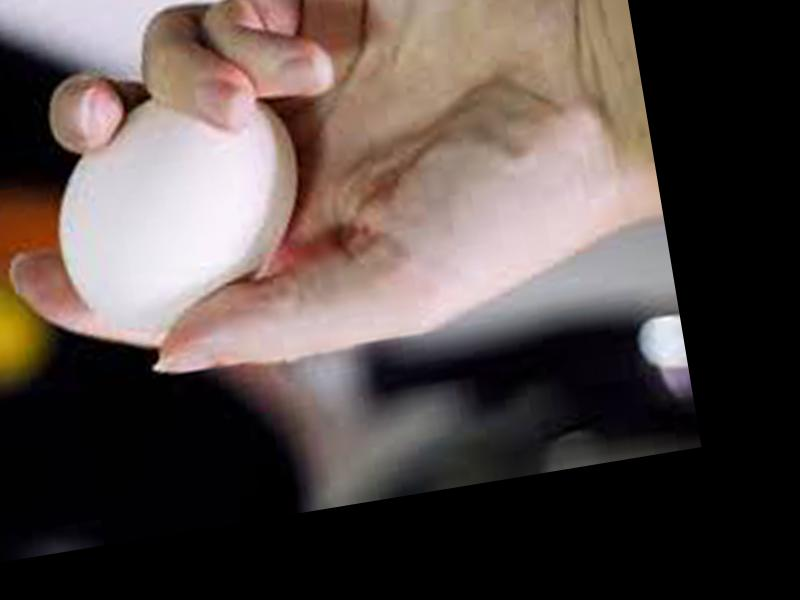Eggs: (36, 80, 317, 343)
